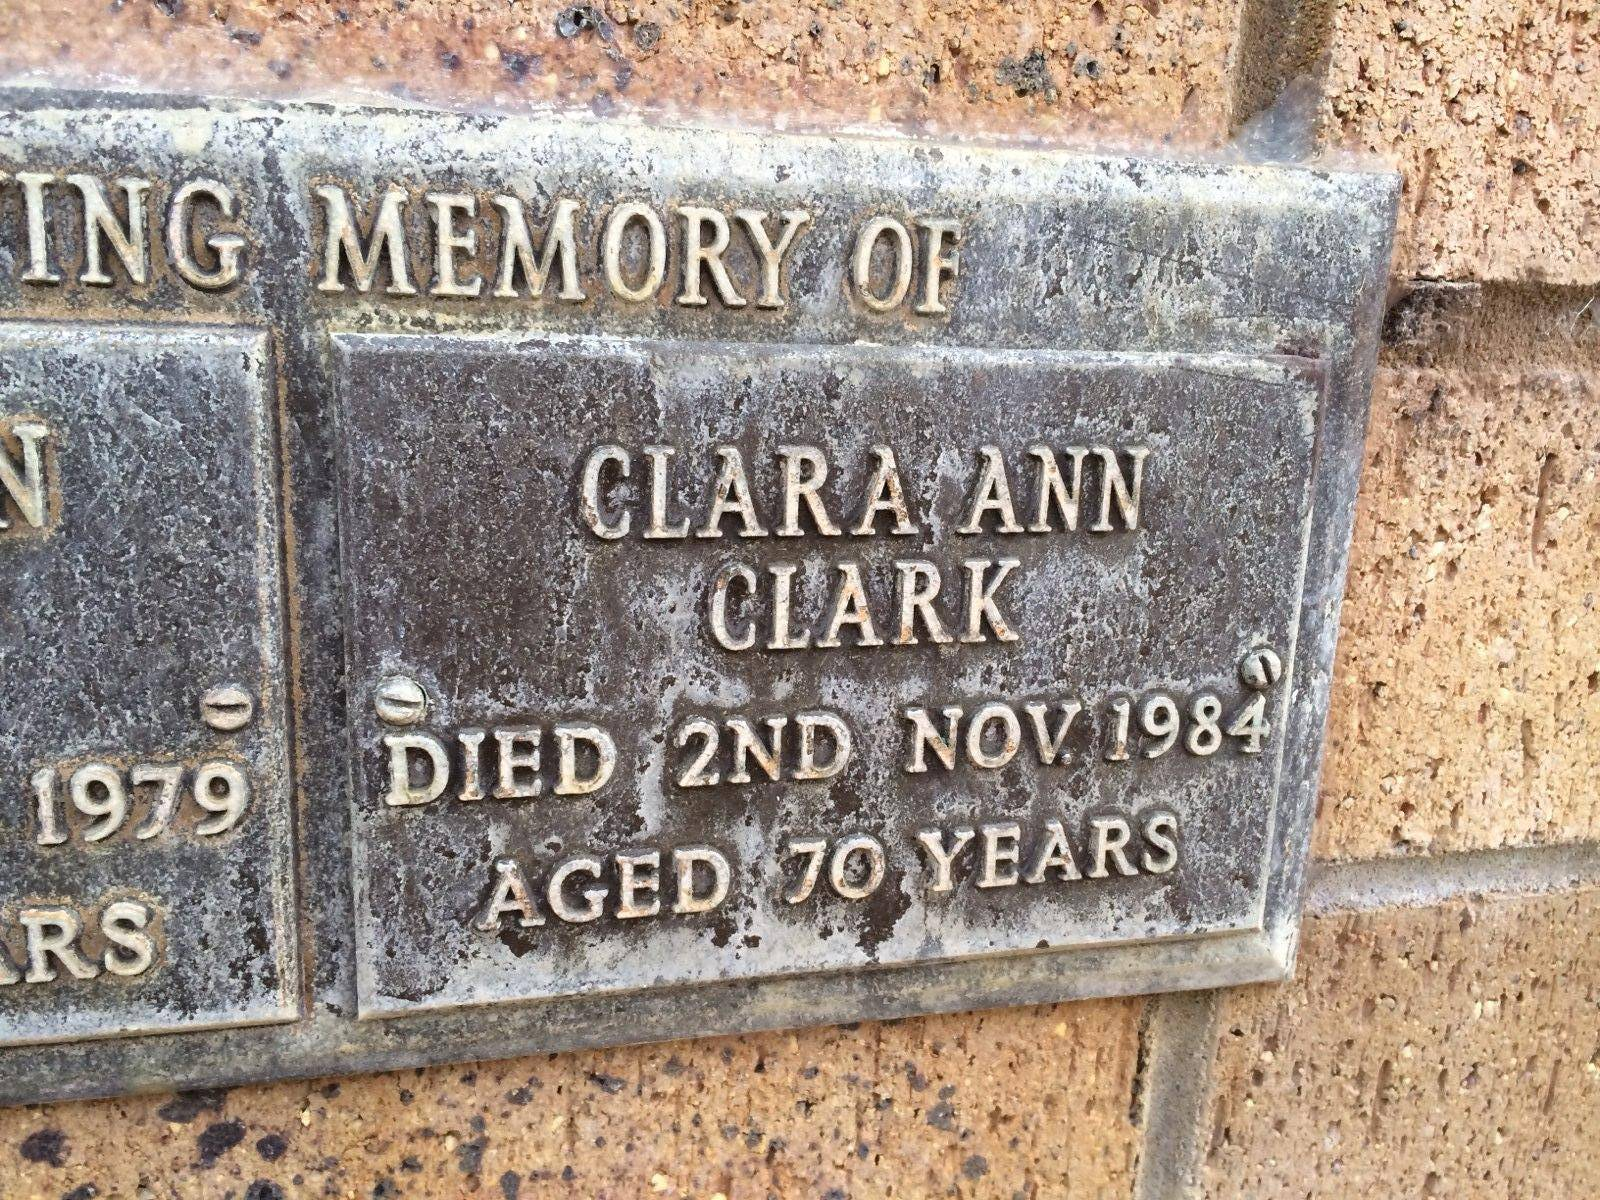plaque: (271, 122, 1440, 1082)
